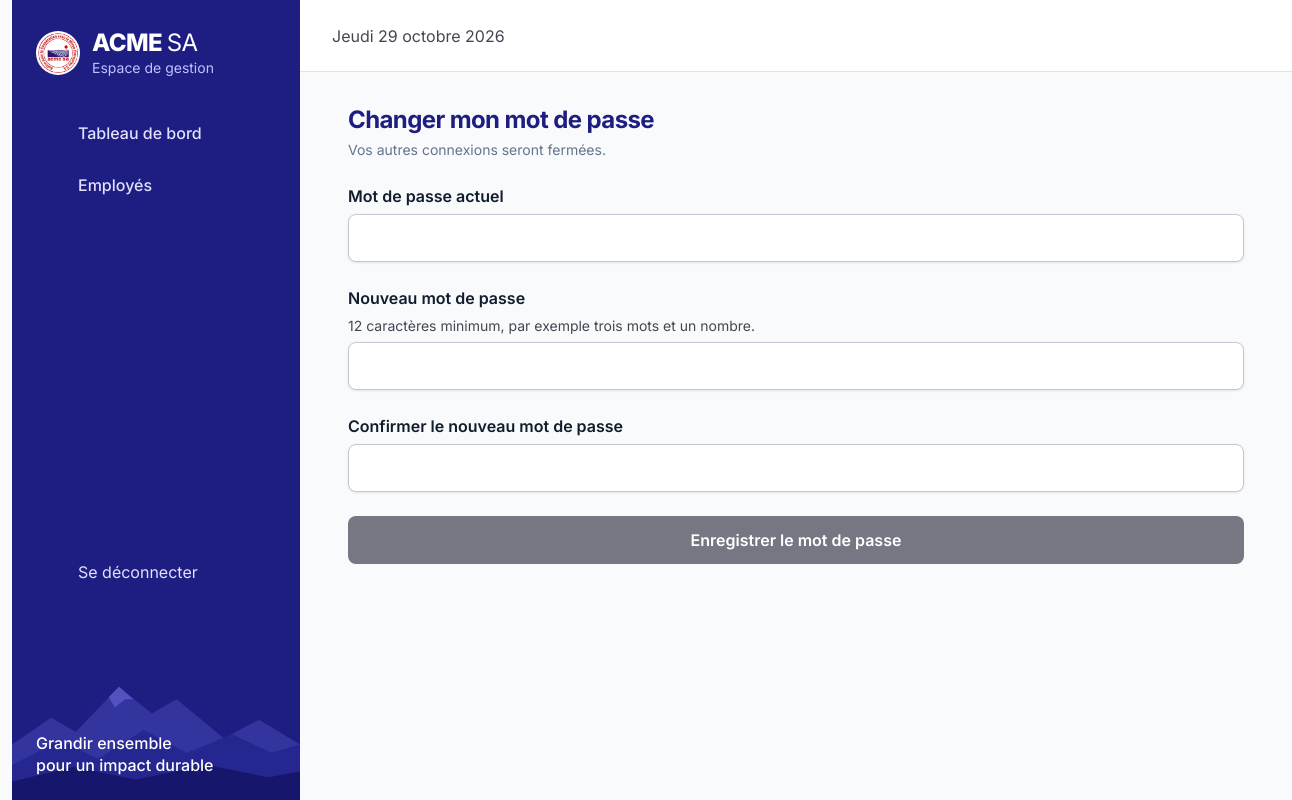
it: AdminPasswordPage (US-23) › CA-08 : erreur WRONG_PASSWORD affichée sous le champ concerné
The image size is (1292, 800).
Type "x" into the password field labelled "Mot de passe actuel" at point(796, 238), box x1=348 y1=214 x2=1244 y2=262
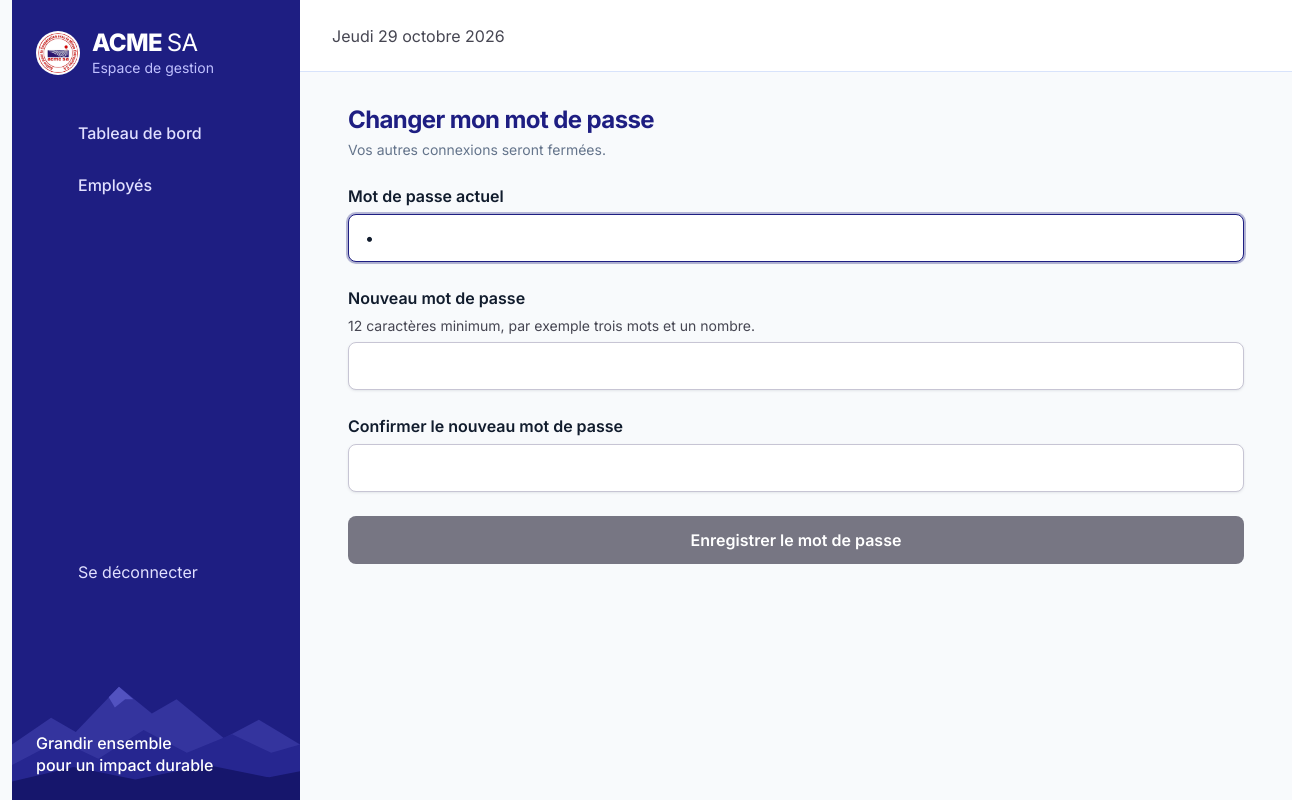
Type "y" into the password field labelled "Nouveau mot de passe" at point(796, 366), box x1=348 y1=342 x2=1244 y2=390
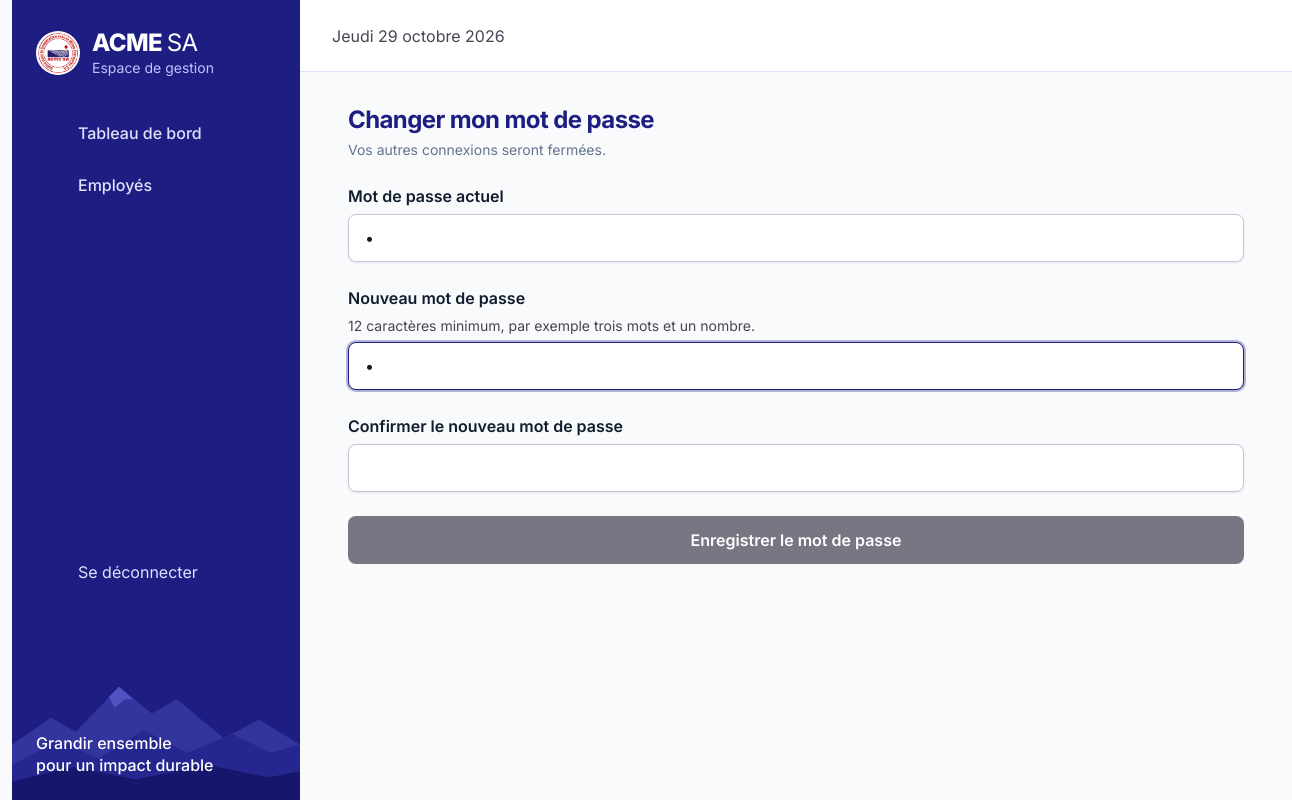
Type "z" into the password field labelled "Confirmer le nouveau mot de passe" at point(796, 468), box x1=348 y1=444 x2=1244 y2=492
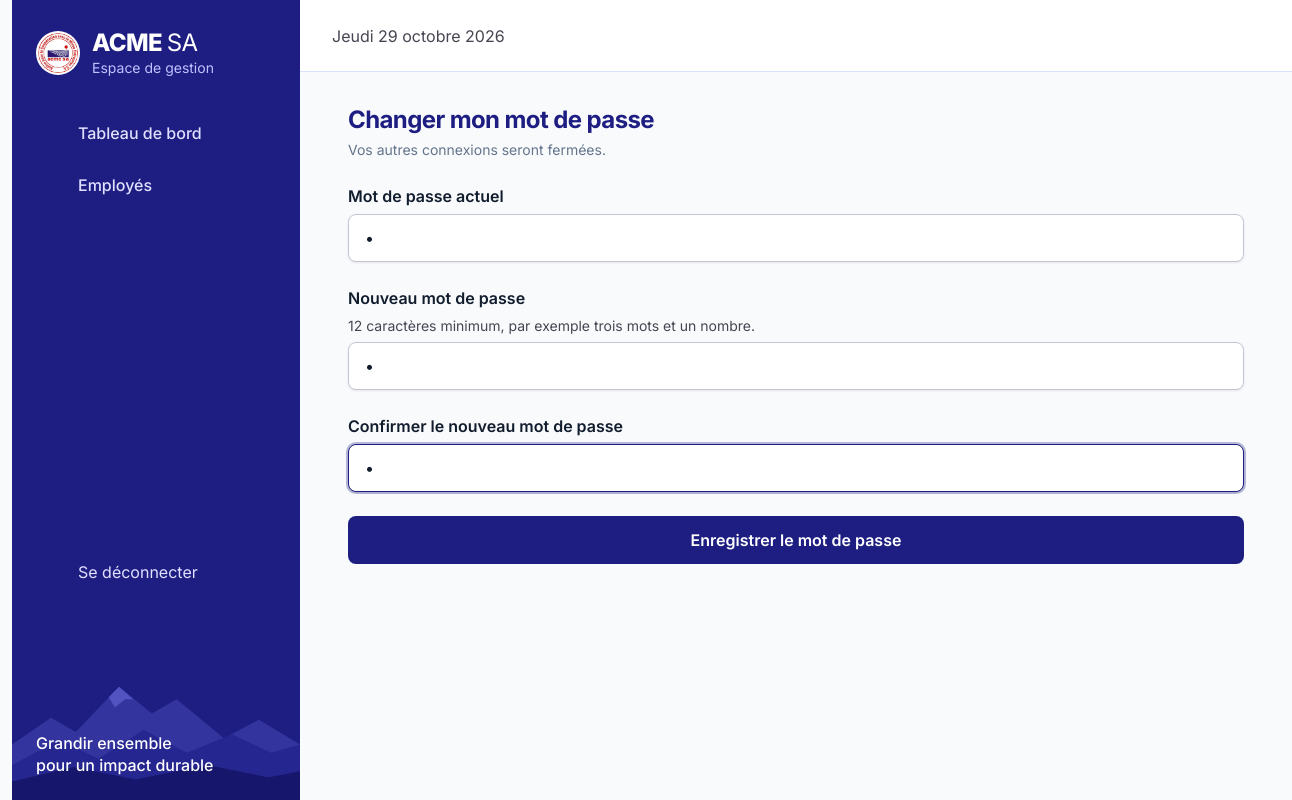
Click the button "Enregistrer le mot de passe" at point(796, 540), box x1=348 y1=516 x2=1244 y2=564
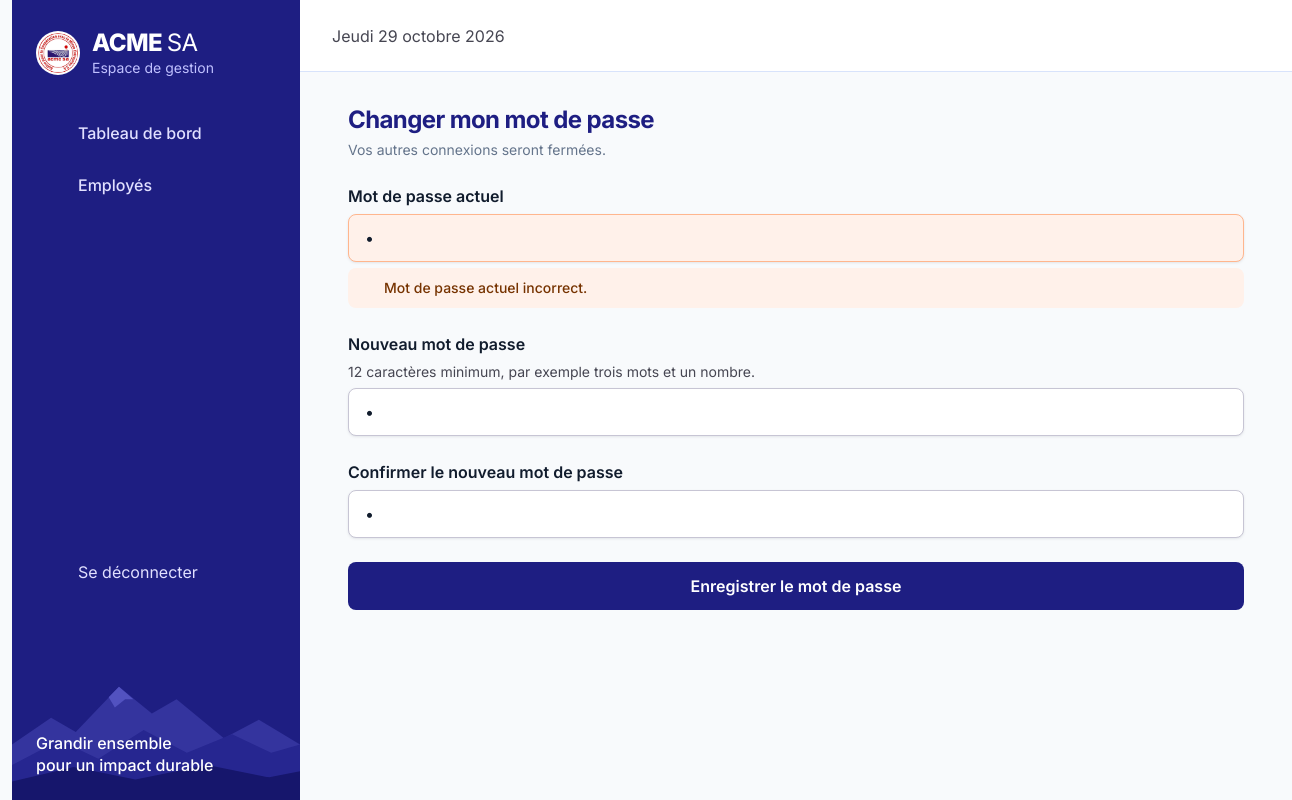
Expected: the text "Mot de passe actuel incorrect." is shown, x1=348 y1=268 x2=1244 y2=308
